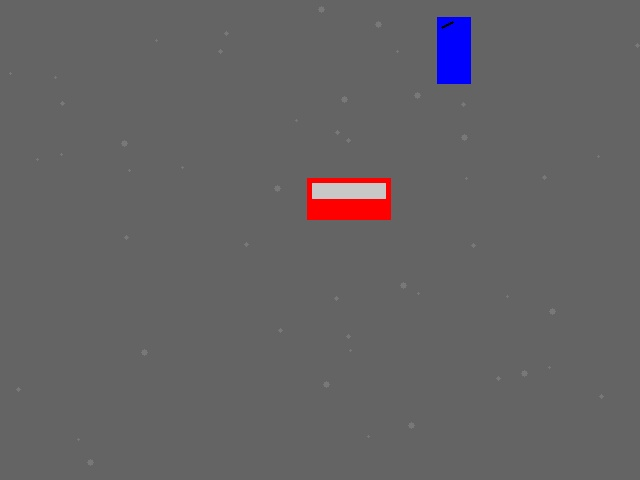car: (307, 178, 390, 219)
motorcycle: (437, 17, 470, 83)
